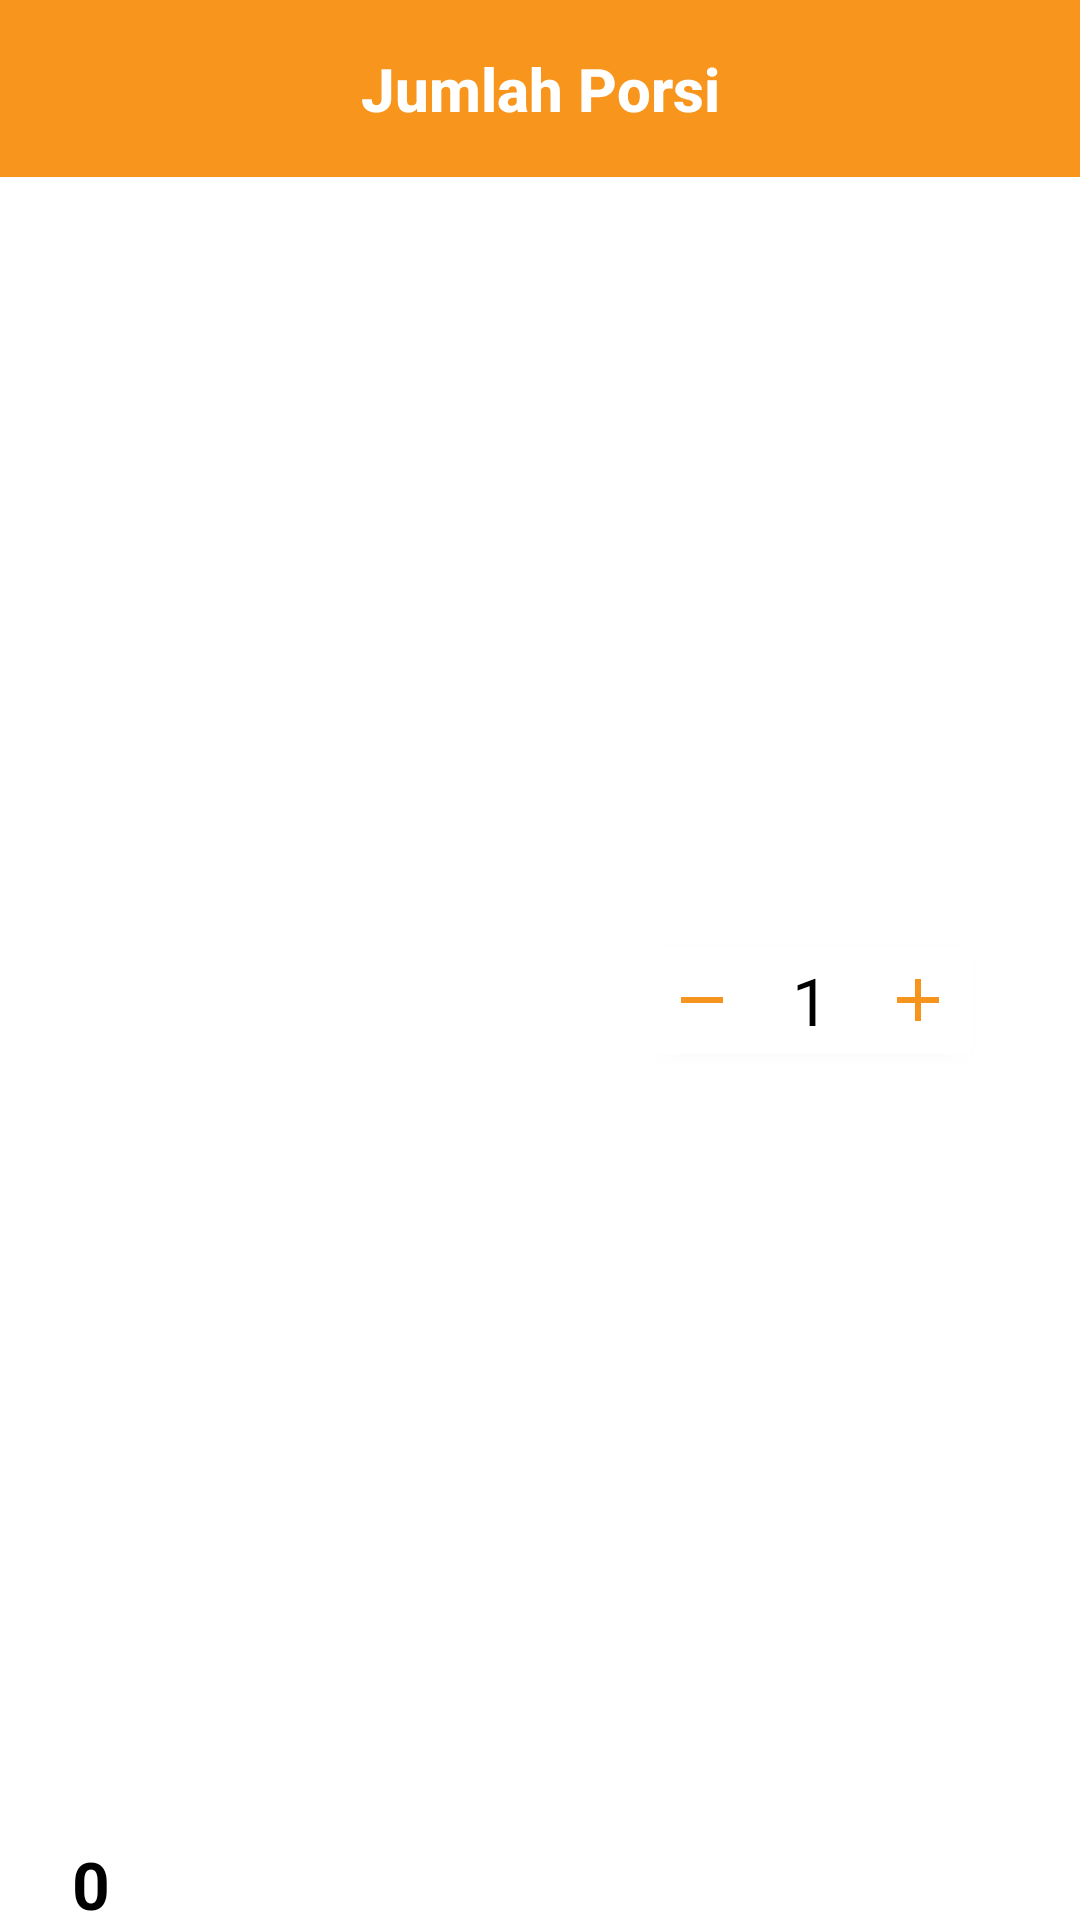

Point at icon controls on the screen. Image size 1080px x 1920px, points as (x,y).
gambar plus pada kuantitas: (918,1000)
